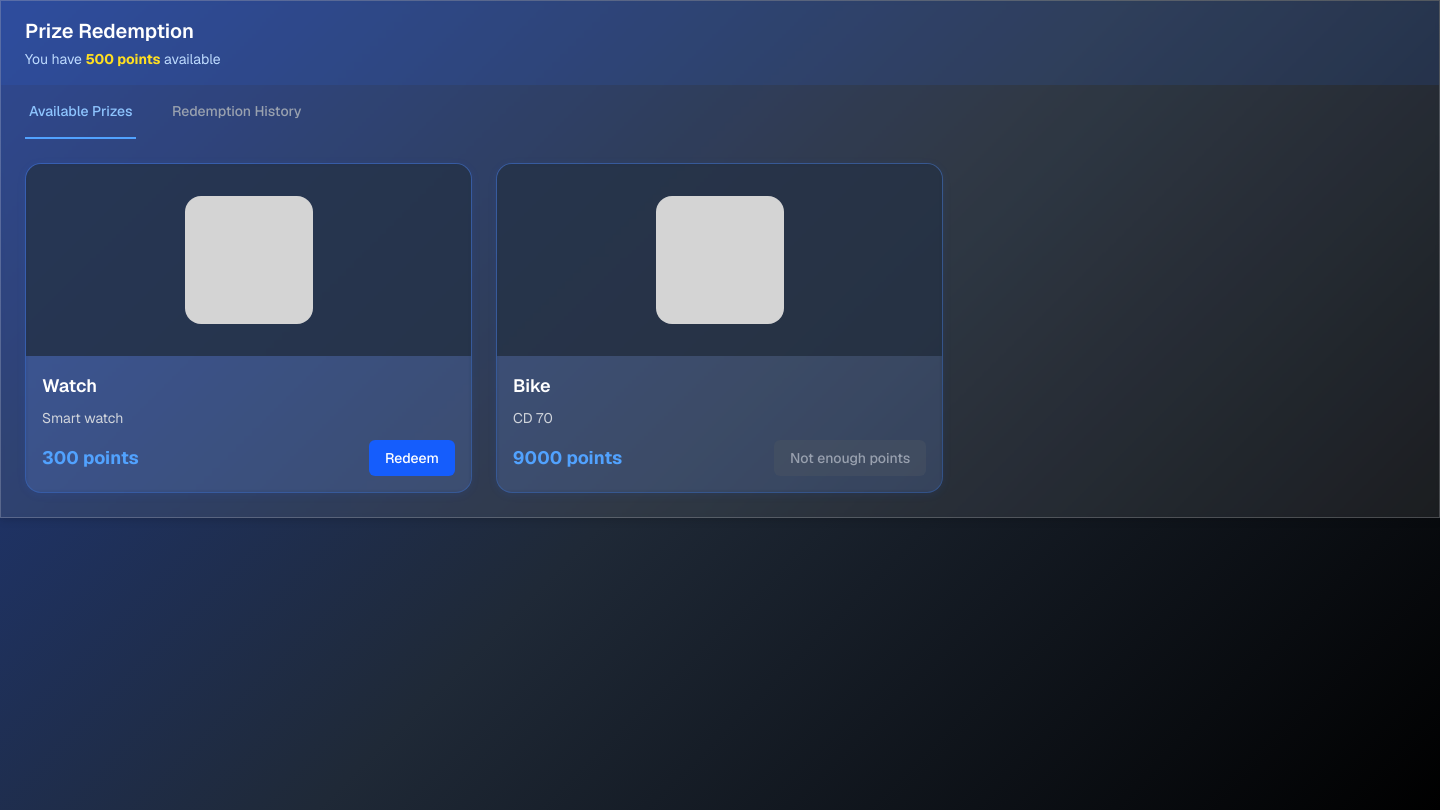
Scenario: PrizeRedemption › loads prizes and history, and switches tabs
expect the text "Loading prizes..." is shown: met, box [25, 50, 221, 68]
expect the heading "Watch" is shown: met, box [42, 374, 97, 397]
Step 1. Click the button "Redemption History" → (237, 112), box [168, 85, 306, 139]
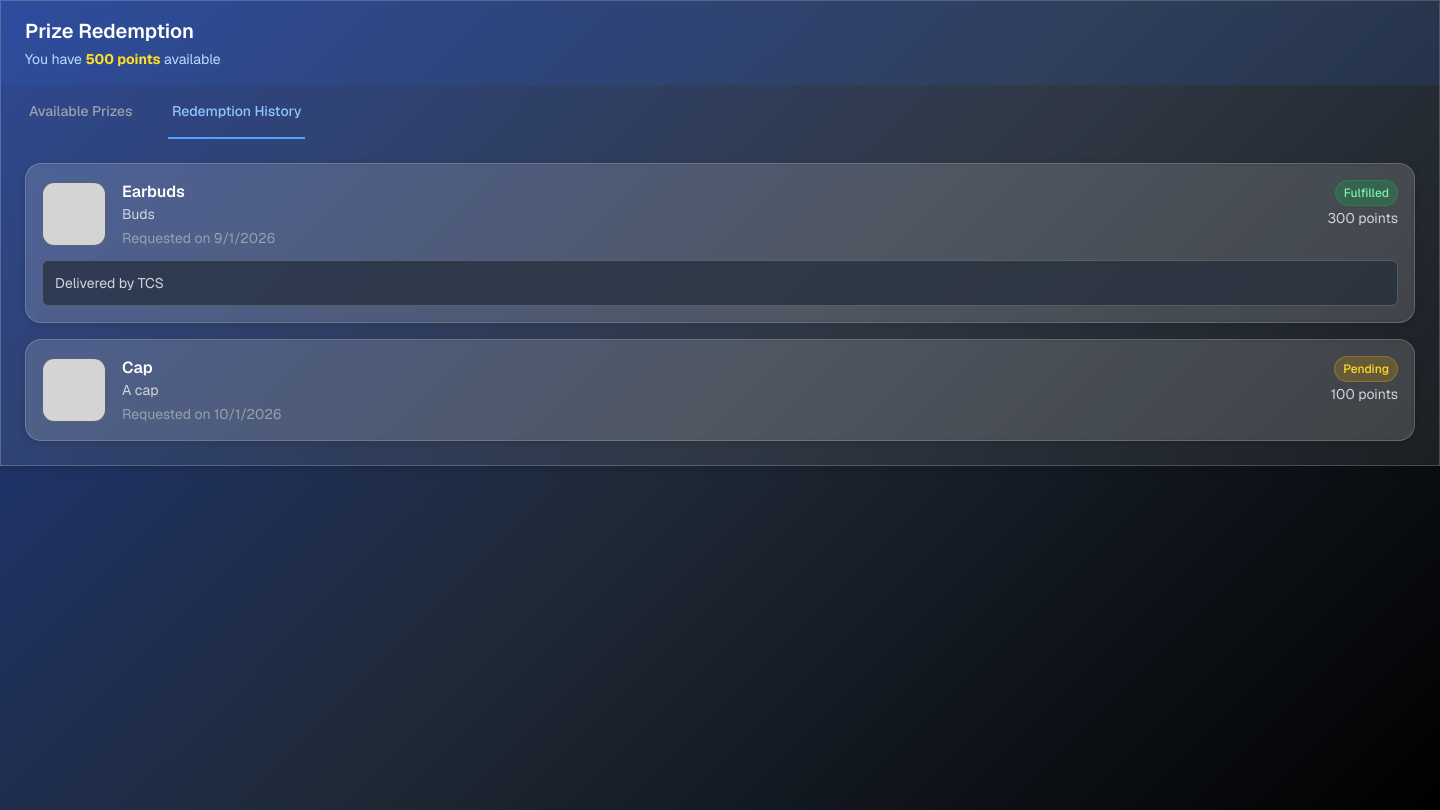
expect the heading "Earbuds" is shown: met, box [122, 181, 185, 202]
Step 2. Click the button "Available Prizes" → (81, 112), box [25, 85, 136, 139]
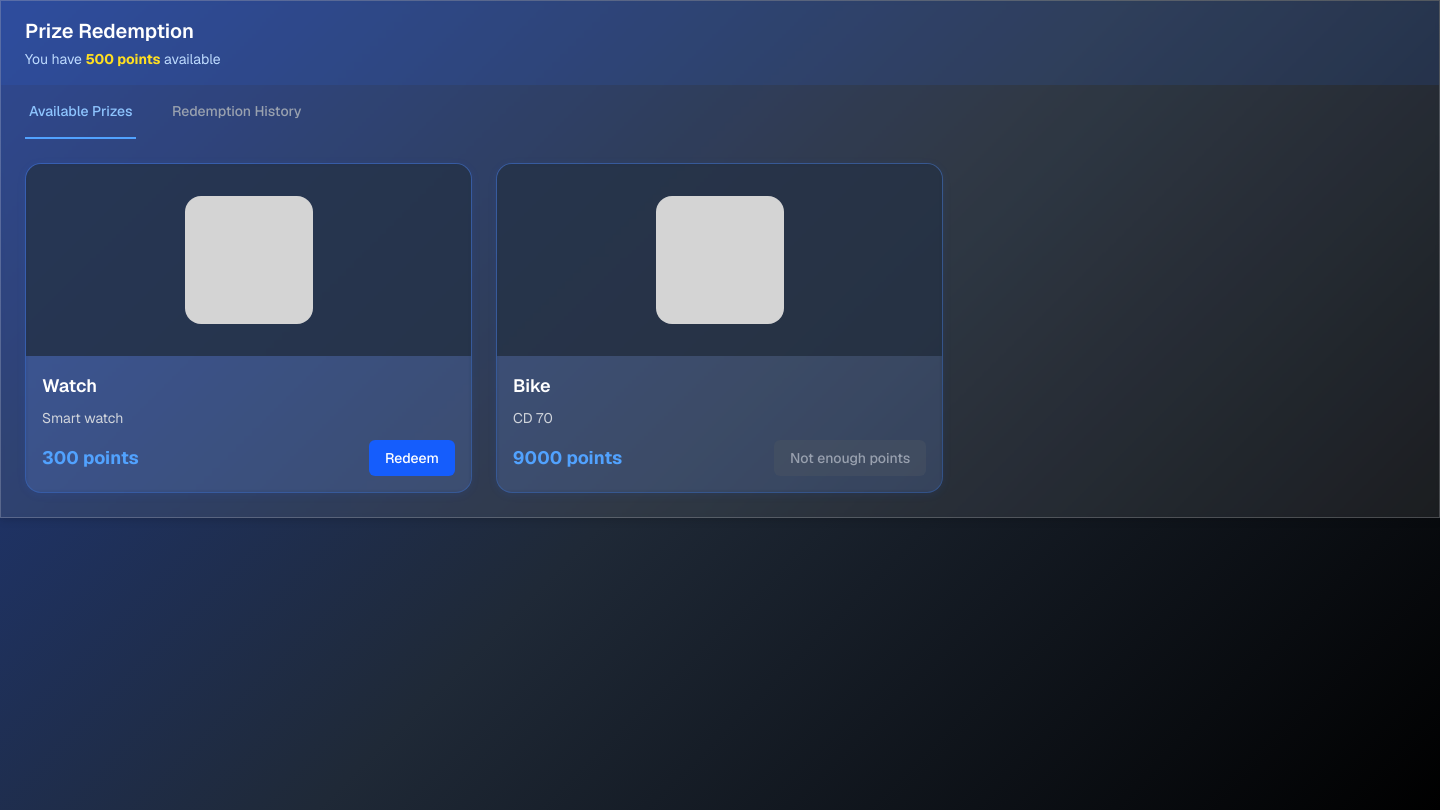
expect the heading "Bike" is shown: met, box [513, 374, 551, 397]
